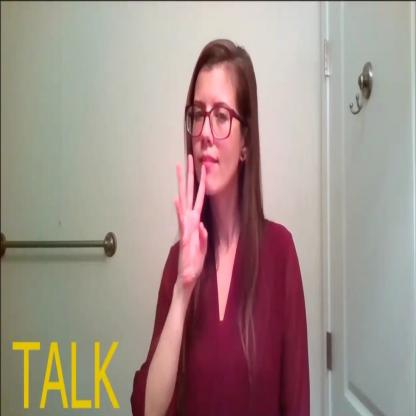Talk: (166, 32, 265, 297)
